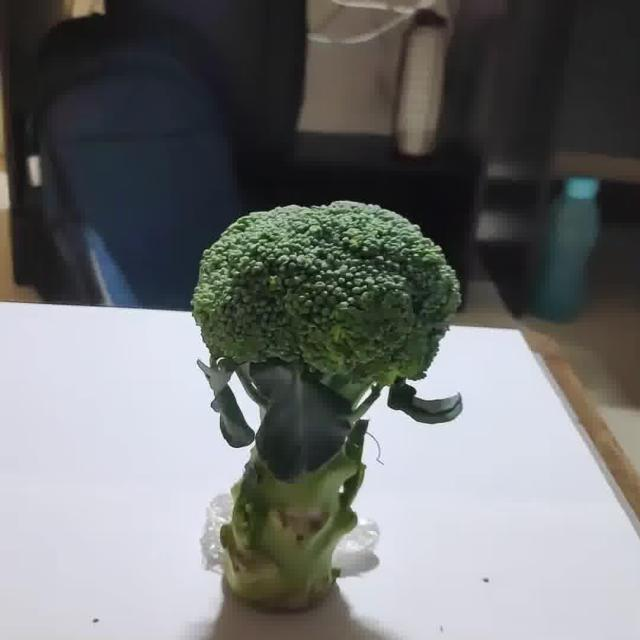Broccoli: (191, 201, 461, 610)
